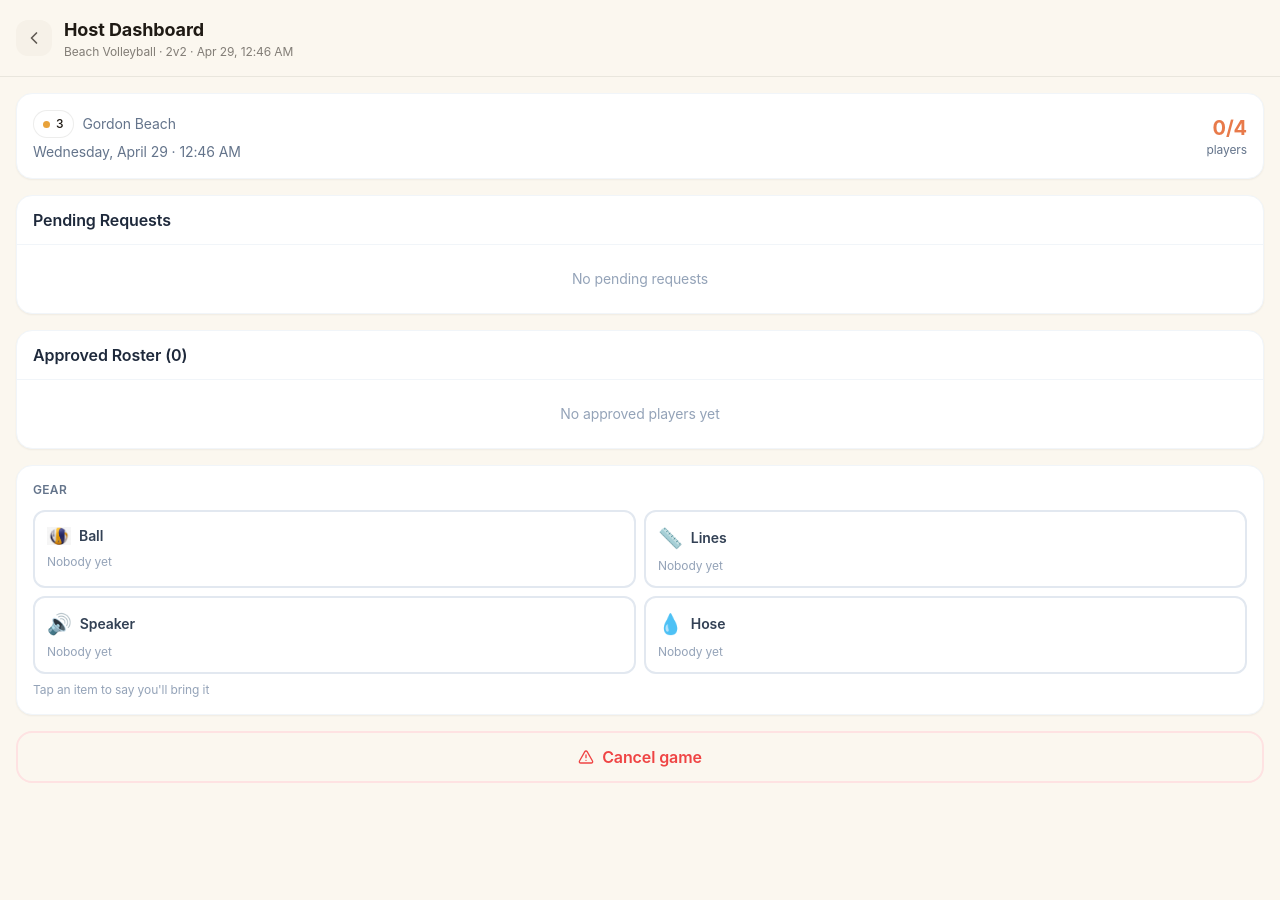
HostDashboard — Gear section › adds gear when host clicks an unclaimed item
Expected: the text "Lines" is shown, x1=691 y1=528 x2=726 y2=548
What coordinates should you click on to do the following:
click the button "📏 Lines Nobody yet"
I would click on:
 (709, 538)
Its box is x1=644 y1=510 x2=1247 y2=588.
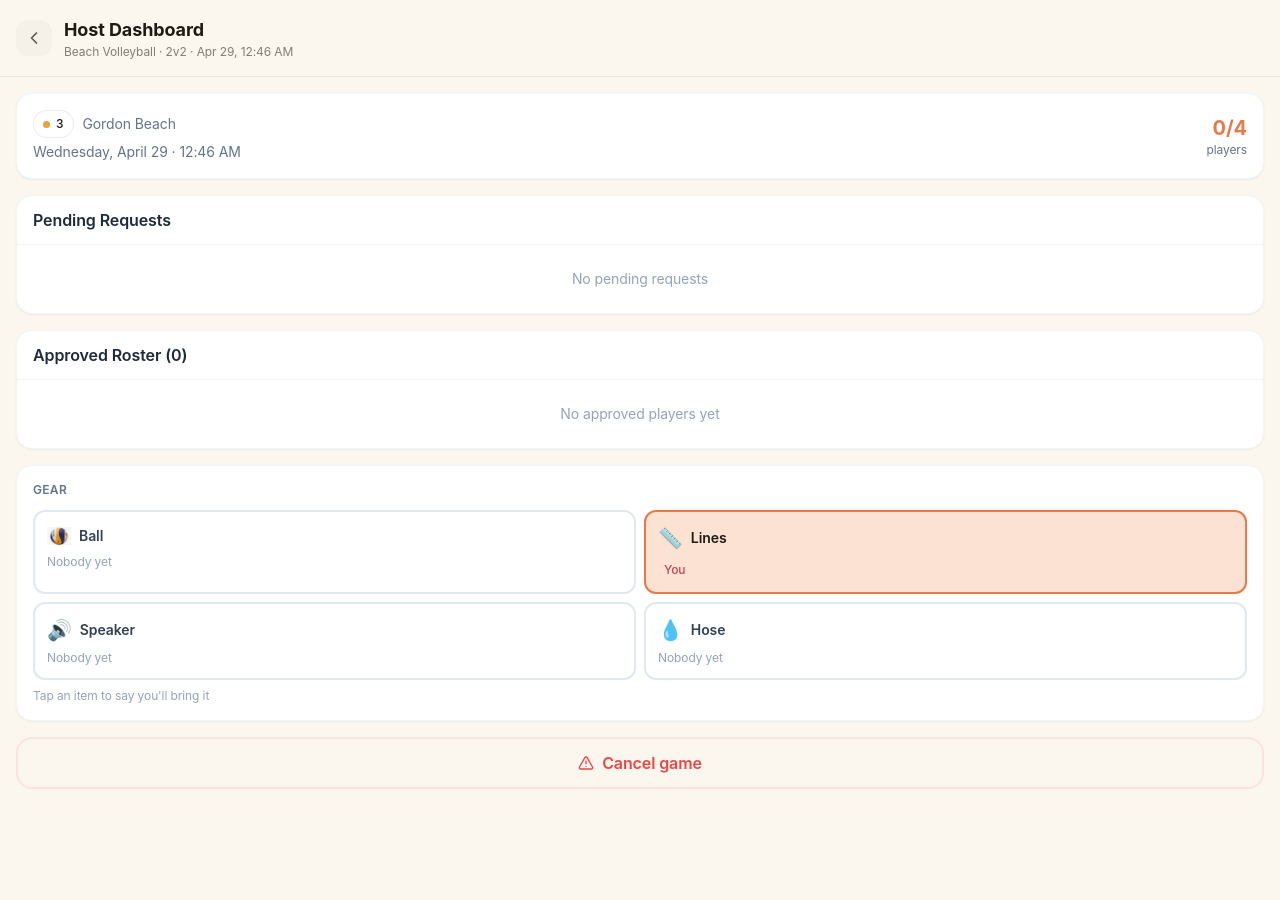
Now the text "You" is shown, box x1=658 y1=560 x2=692 y2=580
